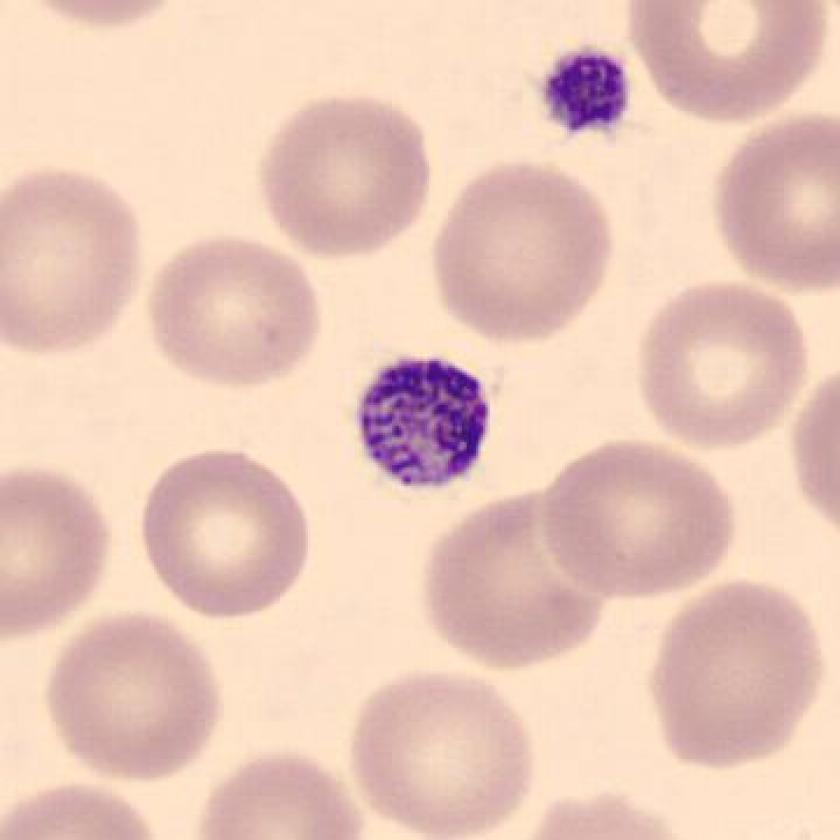platelets: (354, 348, 501, 503), (535, 43, 636, 145)
